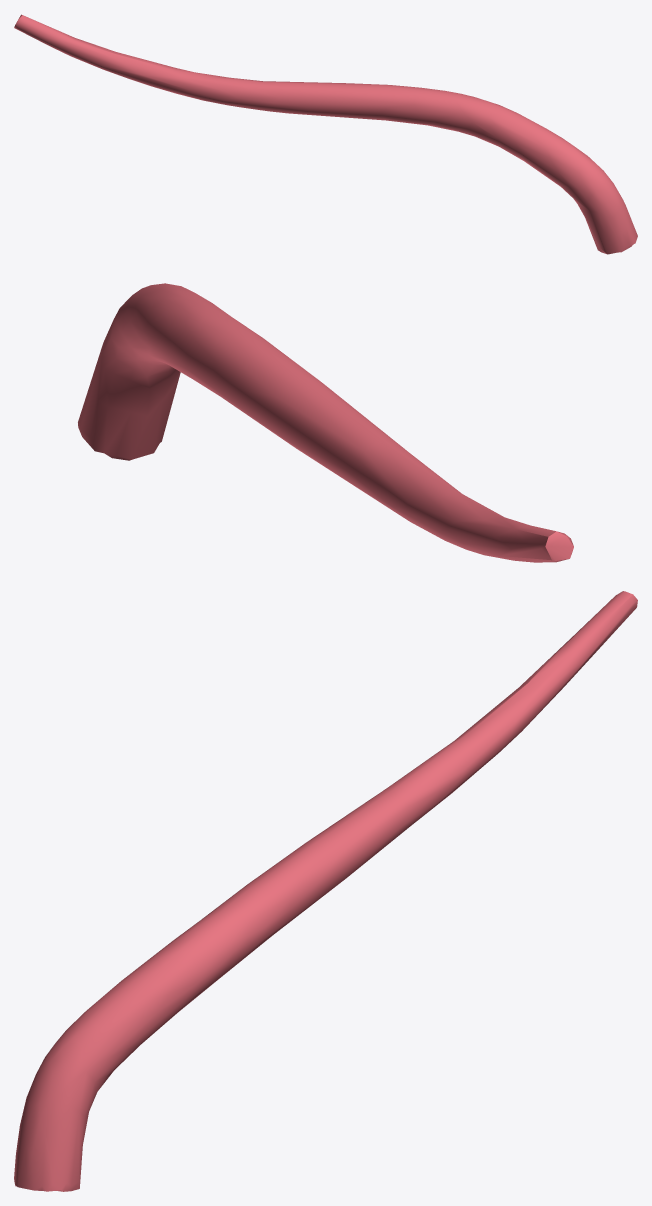
The model's file is fma8619_fj6040.glb.
3 views of the same model, one above another, from view 1: azimuth 30°, elevation 25°; view 2: azimuth 150°, elevation 25°; view 3: azimuth 270°, elevation 25° (orthographic). The views are drawn at different scales.
Visible parts, largest first — view 1: FMA8619_FJ6040; view 2: FMA8619_FJ6040; view 3: FMA8619_FJ6040.
Part boxes in pixels (<box>): FMA8619_FJ6040: <box>14,14,637,254</box>; FMA8619_FJ6040: <box>78,283,573,562</box>; FMA8619_FJ6040: <box>14,591,637,1191</box>.
Bounding box in the file's own units: 0.0574 × 0.0246 × 0.0467.
